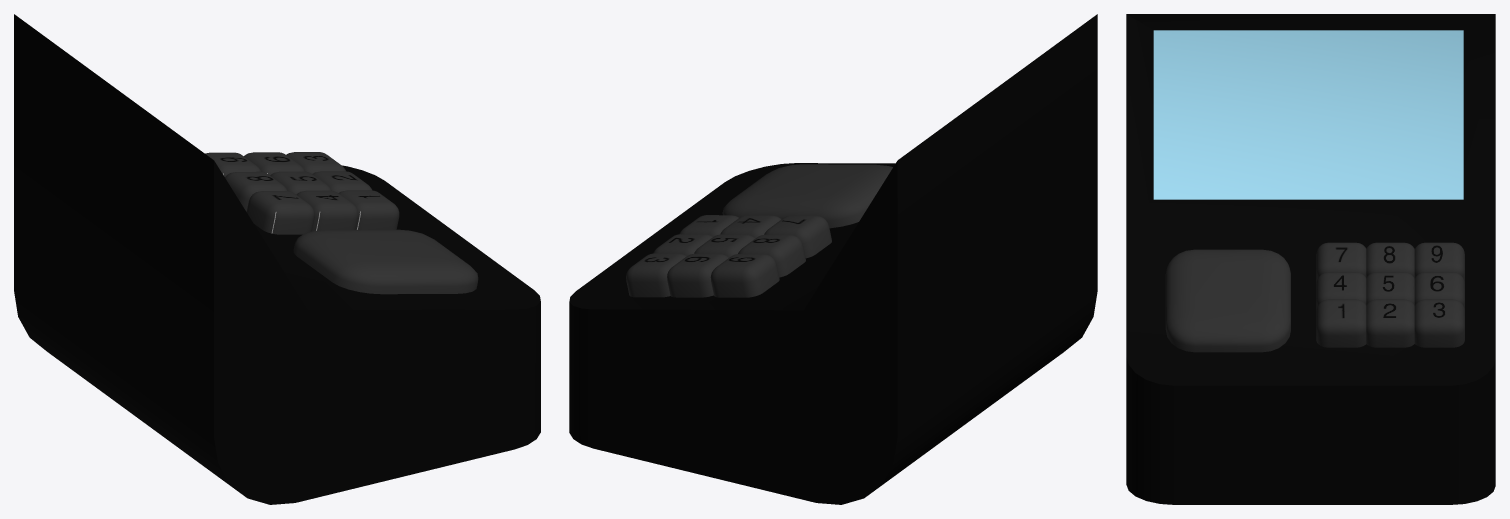
Rendered from CASSA 1.fbx.
3 renders of one model, left to right at view 1: azimuth 30°, elevation 25°; view 2: azimuth 150°, elevation 25°; view 3: azimuth 270°, elevation 25°, orthographic. The views are drawn at different scales.
Visible parts, largest first — view 1: Cube, Cube.011, Cube.002, Cube.005, Cube.008, Cube.001, Cube.006, Cube.004, Cube.009, Cube.007, Cube.003; view 2: Cube, Cube.011, Cube.003, Cube.006, Cube.009, Cube.001, Cube.002, Cube.004, Cube.005, Cube.007, Cube.008; view 3: Cube, Cube.010, Cube.011, Cube.009, Cube.008, Cube.007, Cube.003, Cube.002, Cube.001, Cube.006, Cube.005, Cube.004.
Part boxes in pixels (x1,y1,x2,y2): Cube: [14, 14, 540, 504]; Cube.011: [293, 229, 478, 294]; Cube.002: [246, 191, 314, 234]; Cube.005: [296, 190, 358, 231]; Cube.008: [338, 190, 399, 229]; Cube.001: [225, 171, 287, 211]; Cube.006: [244, 152, 304, 175]; Cube.004: [270, 171, 331, 194]; Cube.009: [286, 152, 345, 173]; Cube.007: [312, 171, 371, 192]; Cube.003: [205, 152, 261, 176]; Cube: [569, 14, 1097, 504]; Cube.011: [722, 164, 892, 228]; Cube.003: [710, 254, 779, 297]; Cube.006: [667, 253, 728, 297]; Cube.009: [626, 253, 686, 297]; Cube.001: [738, 234, 805, 277]; Cube.002: [764, 215, 831, 258]; Cube.004: [694, 234, 755, 257]; Cube.005: [720, 215, 781, 238]; Cube.007: [653, 234, 712, 255]; Cube.008: [679, 215, 738, 236]; Cube: [1126, 14, 1495, 504]; Cube.010: [1195, 394, 1429, 498]; Cube.011: [1165, 249, 1290, 352]; Cube.009: [1414, 299, 1464, 347]; Cube.008: [1316, 299, 1366, 347]; Cube.007: [1366, 299, 1414, 347]; Cube.003: [1414, 242, 1464, 283]; Cube.002: [1316, 242, 1366, 282]; Cube.001: [1366, 242, 1414, 277]; Cube.006: [1414, 272, 1464, 310]; Cube.005: [1316, 272, 1366, 310]; Cube.004: [1366, 272, 1414, 304].
Size of the model in its own units: 203 by 200 by 200.
